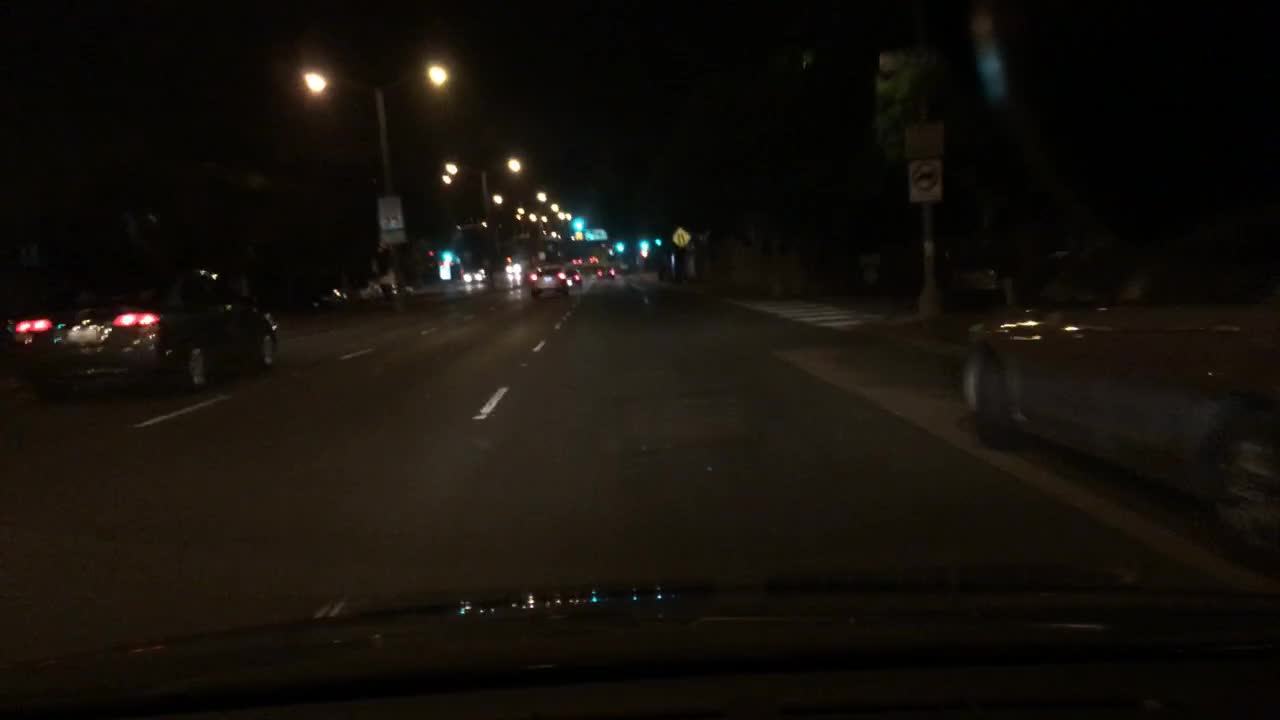car: (953, 209, 1277, 564), (1, 258, 282, 407), (939, 227, 1072, 305), (0, 275, 86, 384), (305, 279, 366, 317), (359, 272, 415, 305), (529, 265, 576, 302), (462, 263, 490, 286), (502, 256, 529, 275), (597, 263, 623, 282), (569, 270, 588, 291), (586, 251, 604, 267), (567, 256, 584, 272)
traffic light: (441, 246, 457, 267), (637, 234, 653, 254), (569, 214, 584, 234), (653, 234, 665, 253), (425, 244, 439, 260), (614, 241, 628, 254)
traffic sign: (901, 118, 950, 160), (908, 164, 946, 207), (373, 193, 406, 234), (670, 220, 695, 249), (373, 230, 408, 249), (852, 249, 883, 270), (855, 270, 883, 291), (583, 227, 611, 244), (434, 263, 453, 279), (574, 230, 586, 244)
